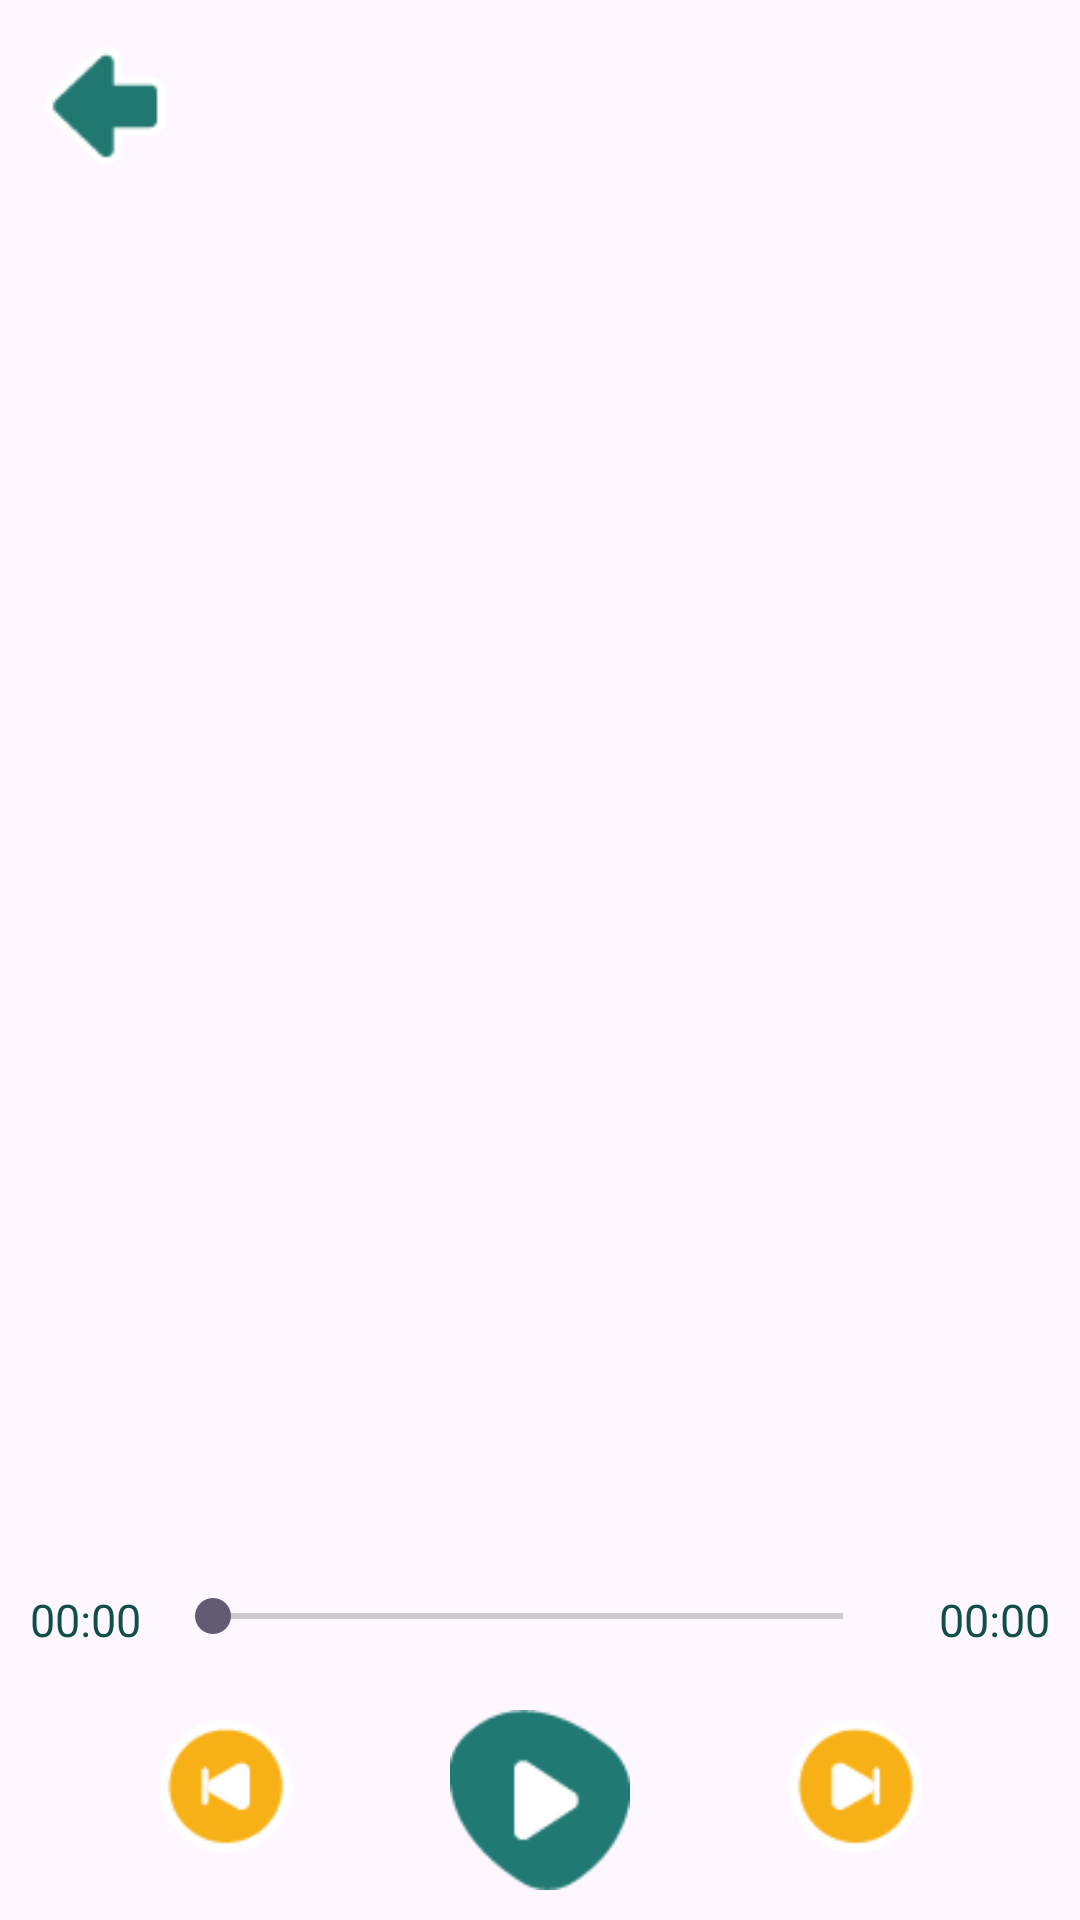

Screen size 1080 × 1920. Icon name, then its box in pixels as (x1, y1, x2, y2):
back: (52, 54, 158, 158)
leftarrow: (167, 1728, 284, 1844)
play: (450, 1710, 630, 1890)
rightarrow: (797, 1728, 914, 1844)
